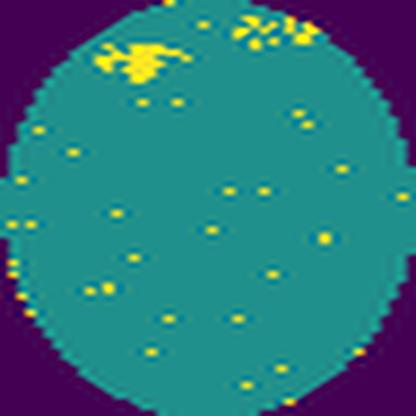Loc: (96, 42, 191, 82)
